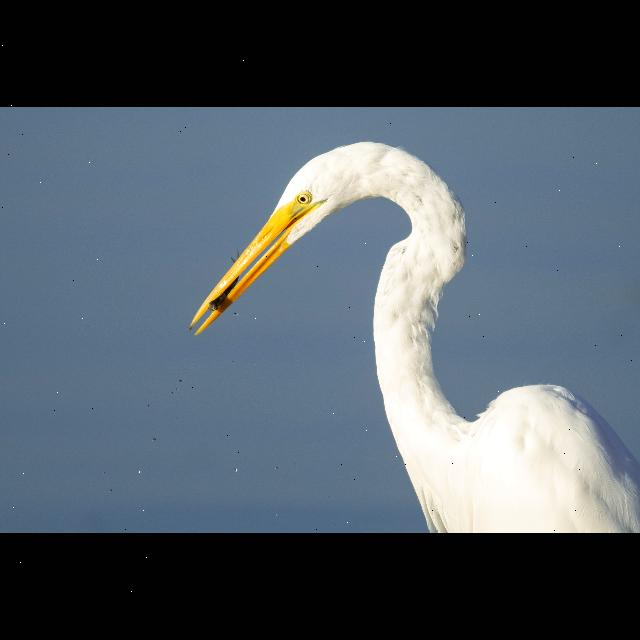egret: (188, 140, 640, 534)
